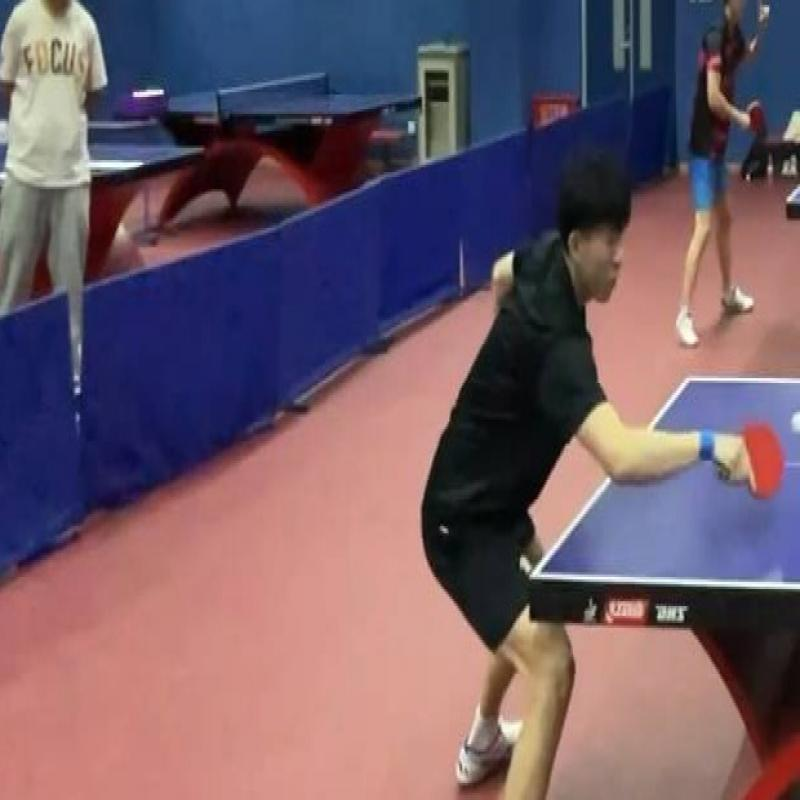bats: (726, 414, 789, 514)
